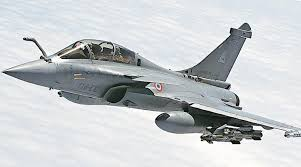fighter: (1, 19, 299, 148)
